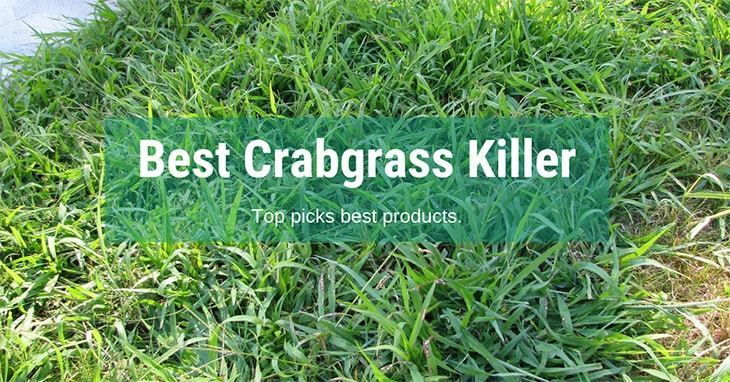crabgrass: (127, 19, 683, 188), (186, 217, 595, 382)
